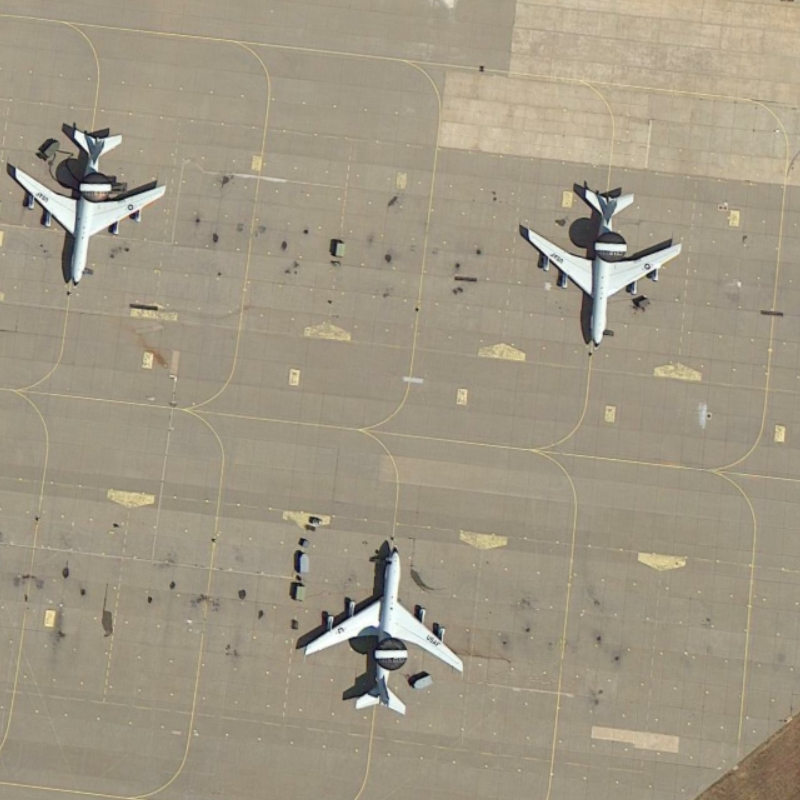A7: (510, 177, 704, 360), (292, 532, 469, 725), (4, 122, 181, 293)
